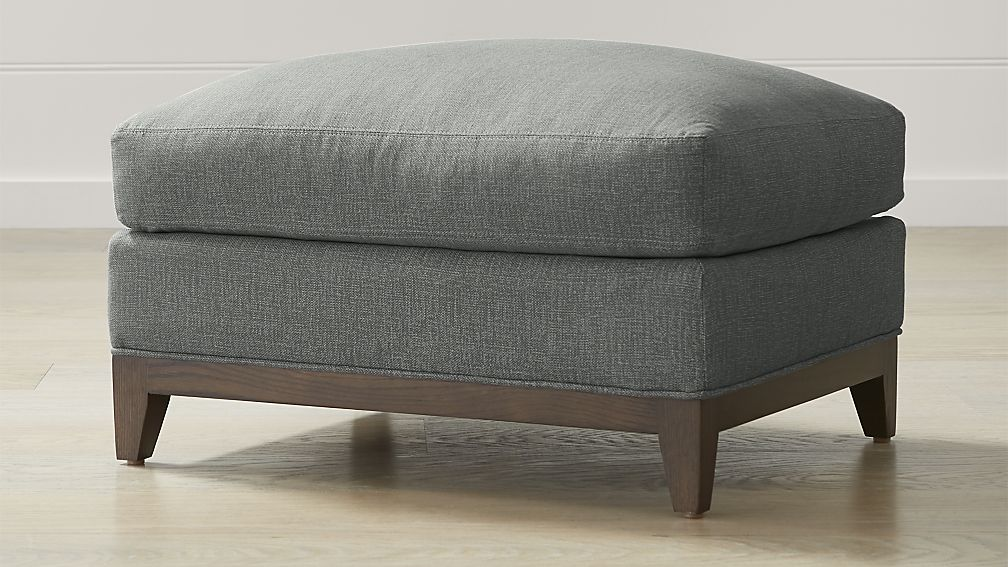chairs: (79, 48, 966, 526)
